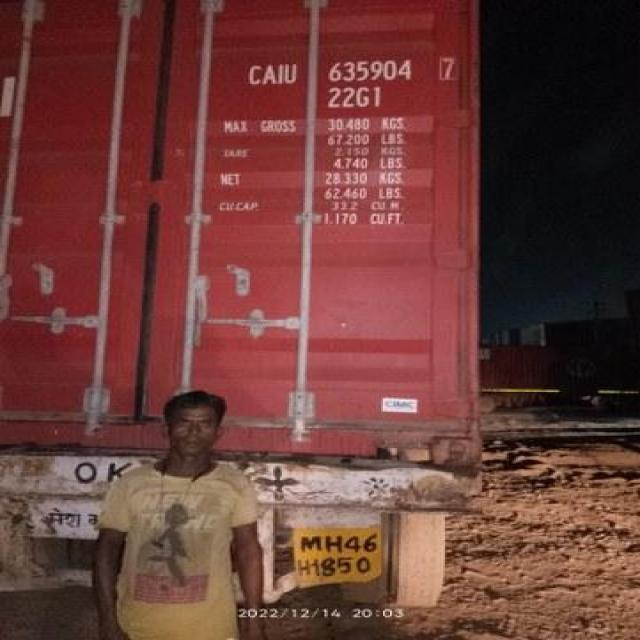ISO: (324, 85, 404, 114)
container_number: (239, 52, 450, 91)
